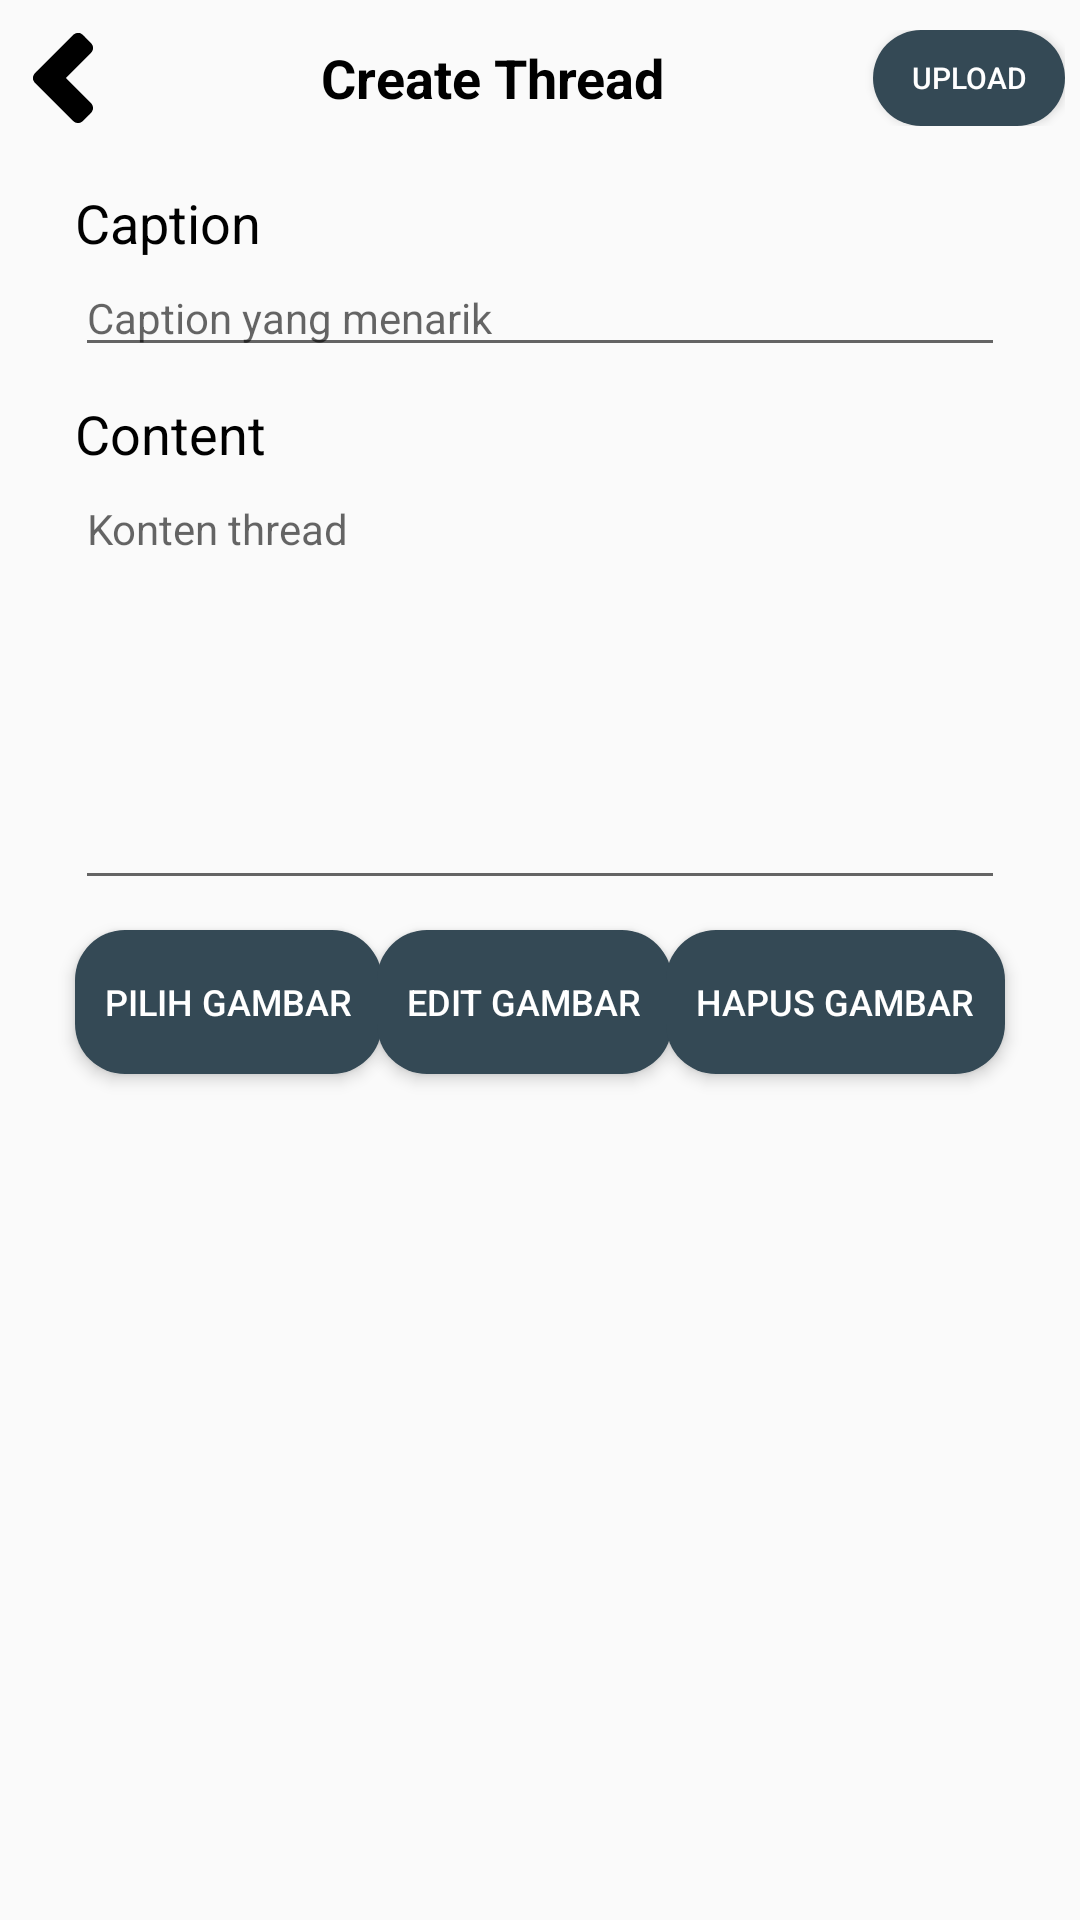

Where icons sit on this 1080 × 1920 app screen, as (x1, y1, x2, y2):
arrow: (33, 33, 93, 123)
